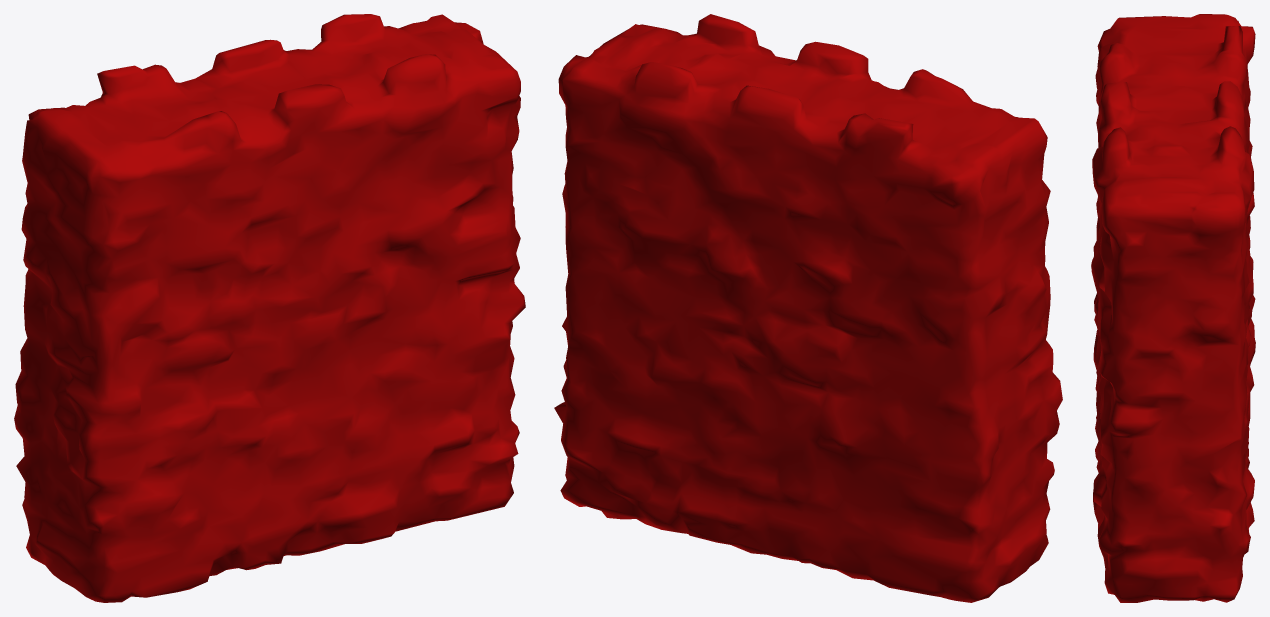
The model's file is stonewall_08.fbx.
3 views of the same model, side by side, from view 1: azimuth 30°, elevation 25°; view 2: azimuth 150°, elevation 25°; view 3: azimuth 270°, elevation 25° (orthographic). The views are drawn at different scales.
Parts seen in each view (by area): view 1: Group2088; view 2: Group2088; view 3: Group2088.
Boxes of the visible parts, box(x1,y1,x2,y2) form: Group2088: box(14, 14, 525, 602); Group2088: box(554, 14, 1062, 602); Group2088: box(1091, 14, 1255, 602).
Size of the model in its own units: 390 by 393 by 137.
